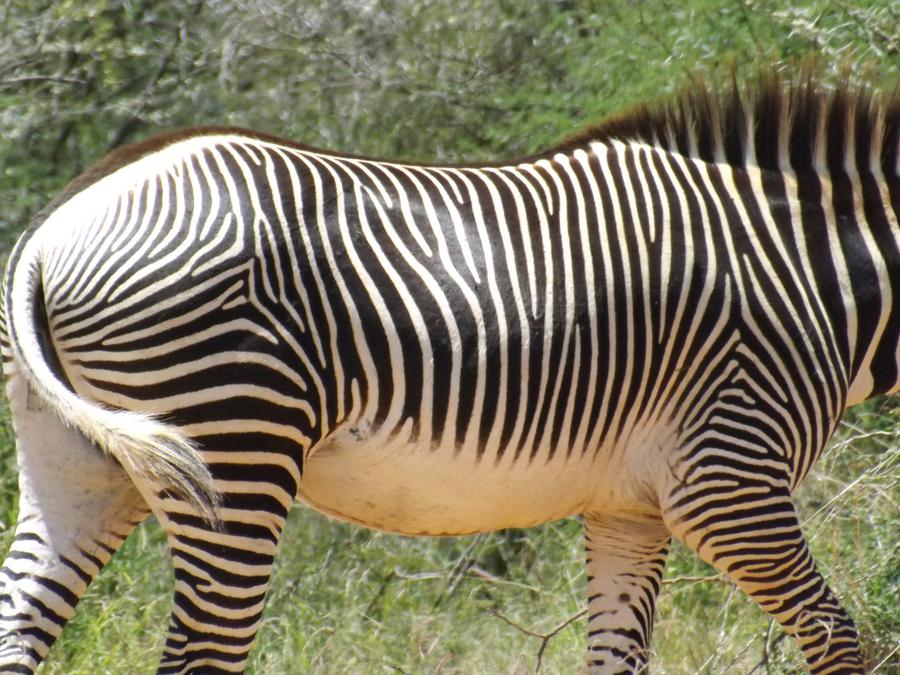zebra_grevys: (5, 106, 807, 498)
